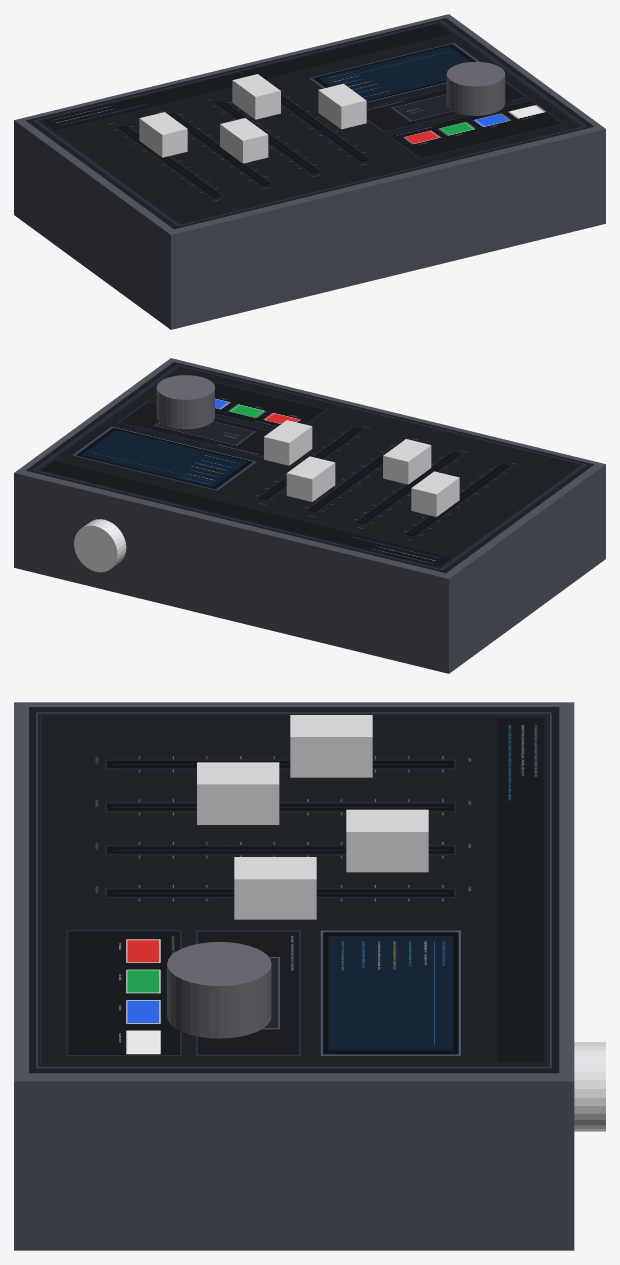
File: lighting-controller.glb
3 views of the same model, one above another, from view 1: azimuth 30°, elevation 25°; view 2: azimuth 150°, elevation 25°; view 3: azimuth 270°, elevation 25° (orthographic). The views are drawn at different scales.
Visible parts, largest first — view 1: Cube, Plane, Cylinder, Cube.002, Cube.004, Cube.001, Cube.003; view 2: Cube, Plane, Cylinder, Cylinder.001, Cube.003, Cube.004, Cube.001, Cube.002; view 3: Plane, Cube, Cylinder, Cube.003, Cube.001, Cube.002, Cube.004, Cylinder.001.
Boxes of the visible parts, <box> form: Cube: <box>14,14,605,329</box>; Plane: <box>25,18,593,229</box>; Cylinder: <box>446,61,505,115</box>; Cube.002: <box>220,118,268,163</box>; Cube.004: <box>318,83,366,129</box>; Cube.001: <box>139,112,187,157</box>; Cube.003: <box>232,74,280,119</box>; Cube: <box>14,358,605,673</box>; Plane: <box>26,362,594,573</box>; Cylinder: <box>156,375,214,429</box>; Cylinder.001: <box>74,519,126,572</box>; Cube.003: <box>286,456,335,501</box>; Cube.004: <box>264,420,312,465</box>; Cube.001: <box>411,471,459,516</box>; Cube.002: <box>383,439,431,484</box>; Plane: <box>29,707,559,1073</box>; Cube: <box>14,702,574,1250</box>; Cylinder: <box>167,942,271,1038</box>; Cube.003: <box>346,809,428,872</box>; Cube.001: <box>290,715,372,777</box>; Cube.002: <box>197,762,279,824</box>; Cube.004: <box>234,857,316,919</box>; Cylinder.001: <box>574,1042,605,1131</box>.
Bounding box in the file's own units: 0.24 × 0.066 × 0.1585.
Materials: 5 (1 with a texture image).
